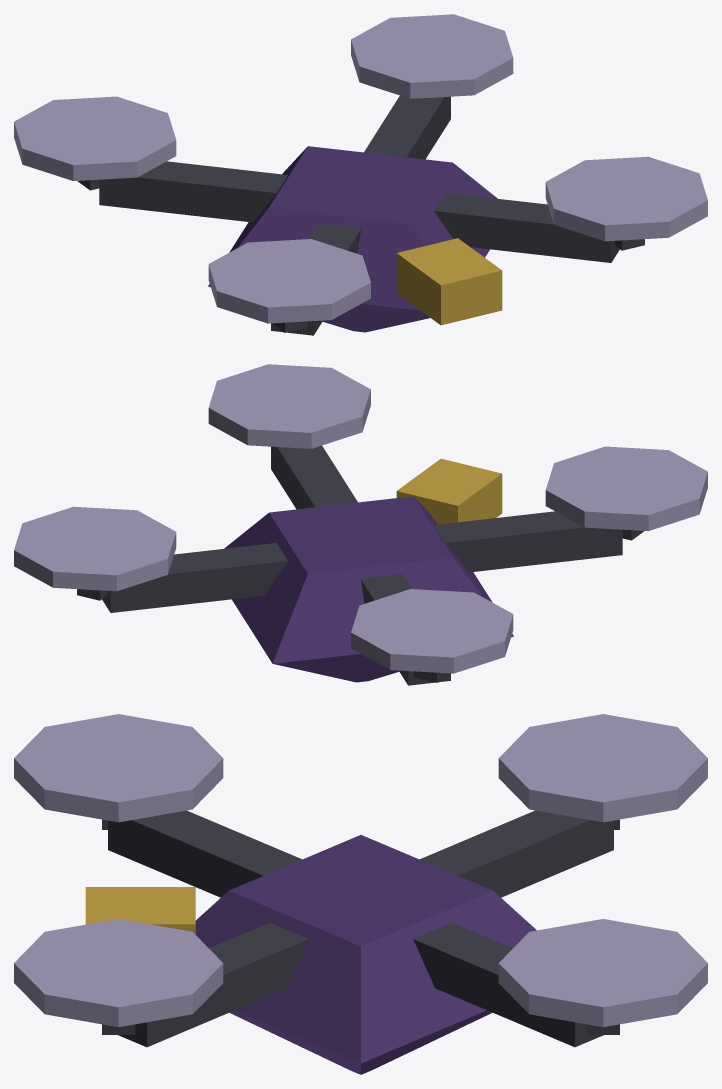
File: enemy_drone.glb
3 renders of one model, top to bottom at view 1: azimuth 30°, elevation 25°; view 2: azimuth 150°, elevation 25°; view 3: azimuth 270°, elevation 25°, orthographic. The views are drawn at different scales.
Parts seen in each view (by area): view 1: body; view 2: body; view 3: body.
Part boxes in pixels (x1,y1,x2,y2): body: (14, 14, 707, 335); body: (14, 364, 707, 685); body: (14, 714, 707, 1074).
Size of the model in its own units: 0.63 by 0.21 by 0.63.
